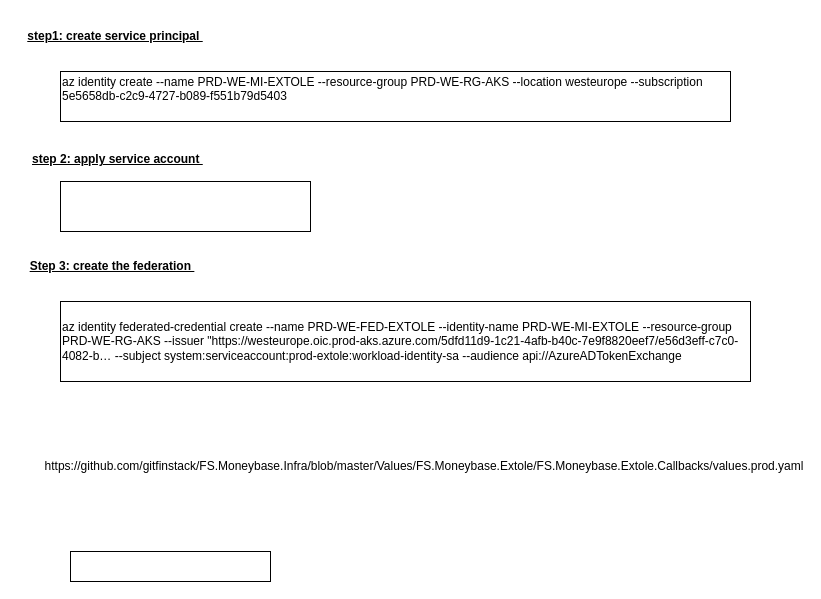
Some shapes in this 821 by 599 pixel diagram are drawn without their labels. The centre of each missing label's shape, as x and y in pixels:
entraworkloadid: enabled: true: the point at 170,566
kubectl apply -f filename.yml use client id from the output of step 1: the point at 185,206
